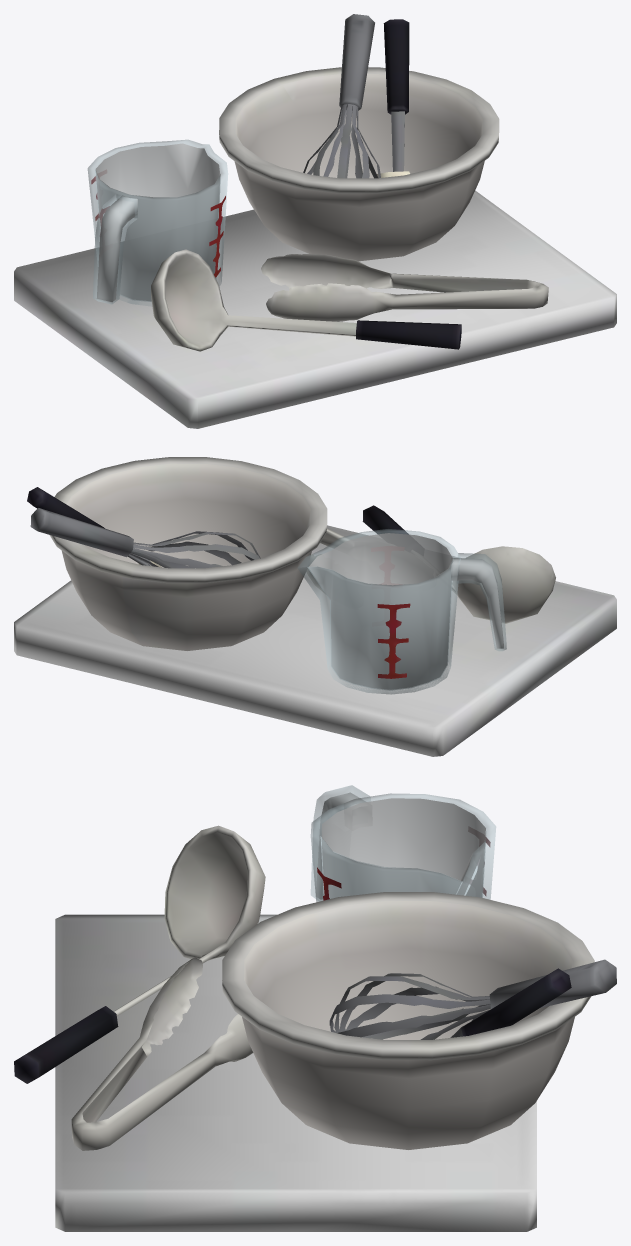
3 renders of one model, top to bottom at view 1: azimuth 30°, elevation 25°; view 2: azimuth 150°, elevation 25°; view 3: azimuth 270°, elevation 25°, orthographic. The views are drawn at different scales.
Size of the model in its own units: 8.85 by 3.51 by 8.1.
Materials: 3 (3 with a texture image).
